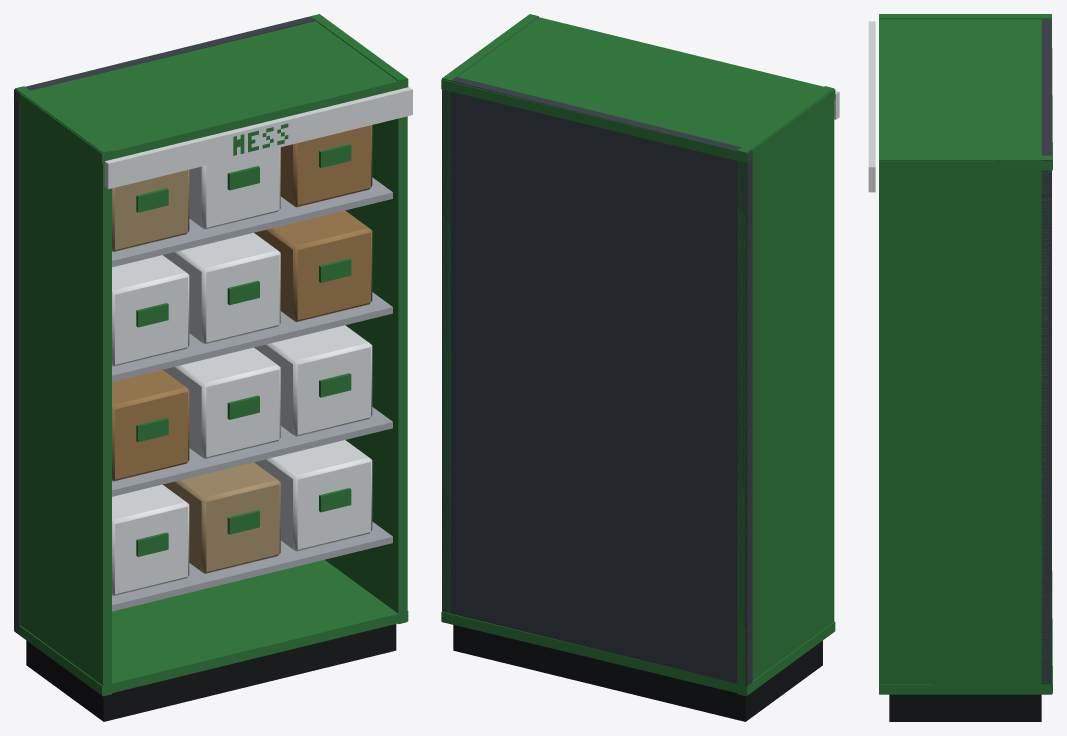
Rendered from safety_ration_locker.glb.
3 renders of one model, left to right at view 1: azimuth 30°, elevation 25°; view 2: azimuth 150°, elevation 25°; view 3: azimuth 270°, elevation 25°, orthographic.
Visible parts, largest first — view 1: safety_ration_locker; view 2: safety_ration_locker; view 3: safety_ration_locker.
Boxes of the visible parts, x1,y1,x2,y2 form: safety_ration_locker: (14,14,412,721); safety_ration_locker: (441,14,839,721); safety_ration_locker: (868,14,1052,721).
Size of the model in its own units: 1.01 by 1.8 by 0.535.
